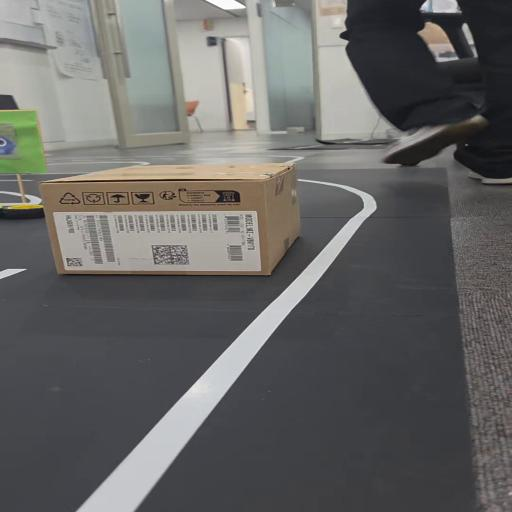Box: (36, 163, 323, 276)
